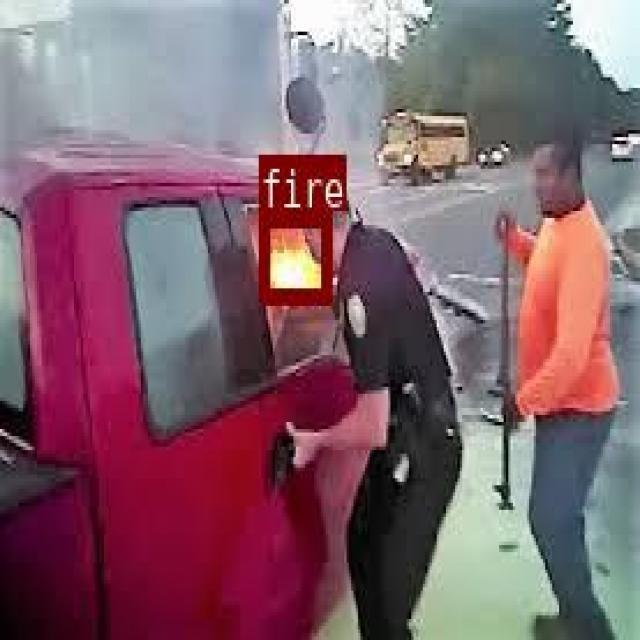fire: (257, 208, 330, 299)
